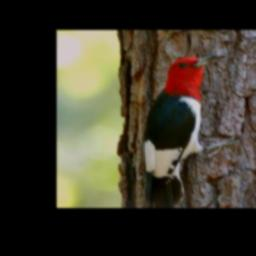Woodpecker: (142, 54, 241, 206)
